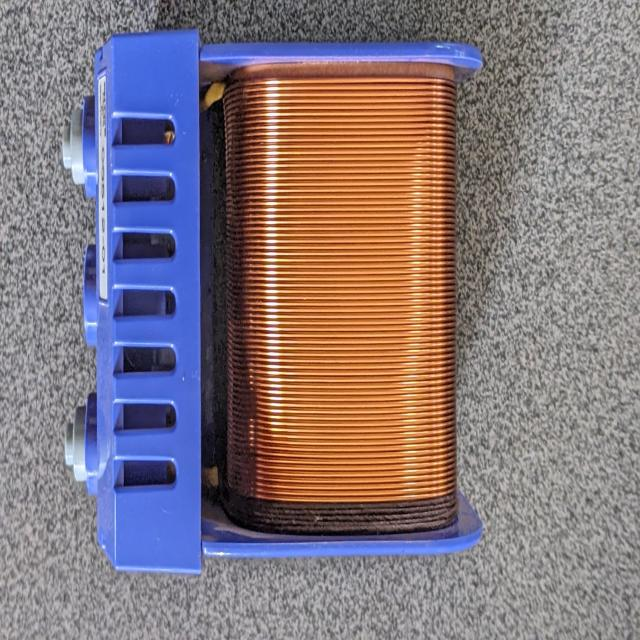Solenoid: (50, 11, 492, 585)
